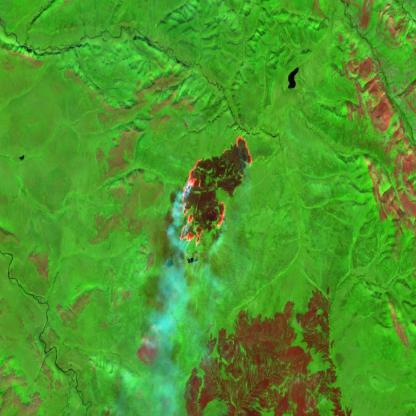fire: (177, 130, 254, 250)
